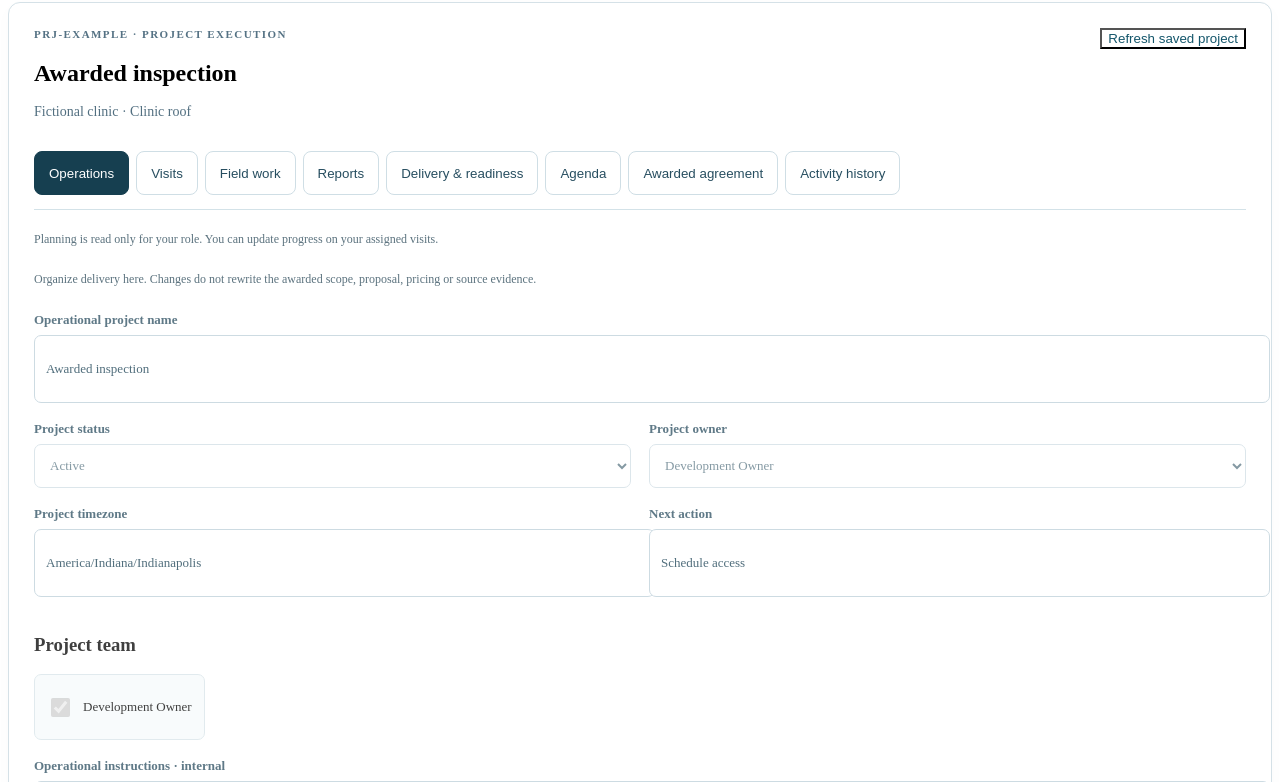
Test: CPL project execution workspace › respects role permissions while allowing assigned field progress
Expected: the field labelled "Operational project name" is shown, [34,335,1270,403]
Expected: the button "Refresh saved project" is enabled, [1100,28,1246,49]
Click the button "Visits" at (167, 173), box [136,151,198,195]
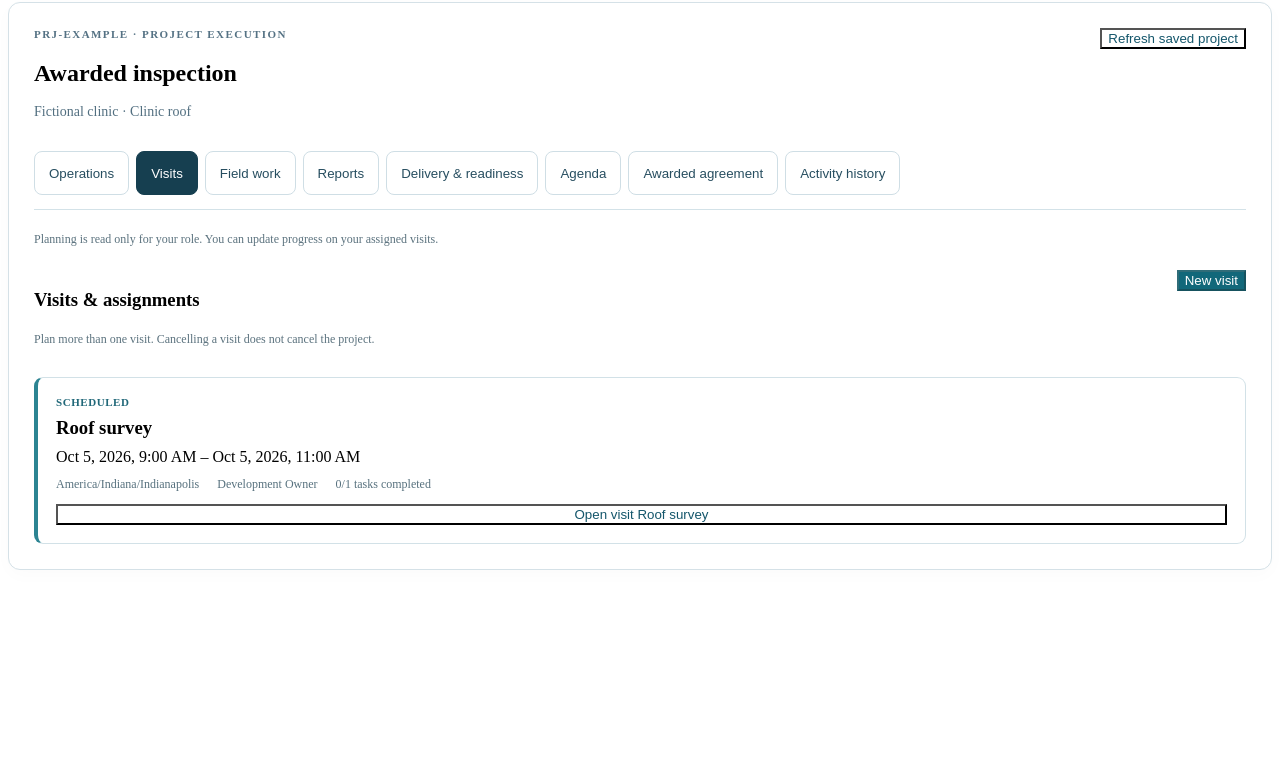
Click the button "Open visit Roof survey" at (642, 514), box [56,504,1227,524]
(page scrolled)
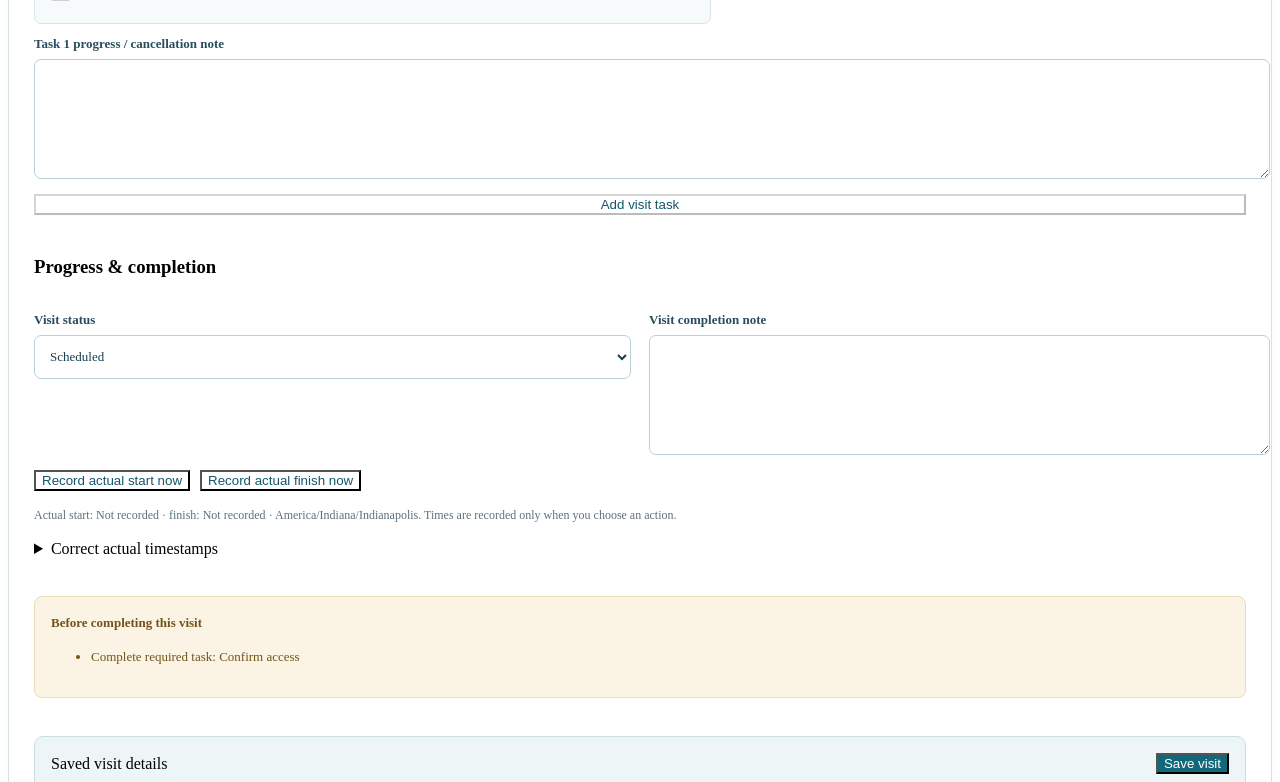
Expected: the button "Add visit task" is disabled, [34,194,1246,215]
Expected: the text box labelled "Visit completion note" is enabled, [649,335,1270,455]
